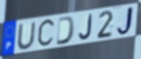2: (96, 10, 115, 40)
C: (37, 17, 57, 50)
D: (55, 15, 76, 47)
J: (116, 6, 135, 37), (78, 13, 93, 41)
U: (16, 20, 37, 51)
